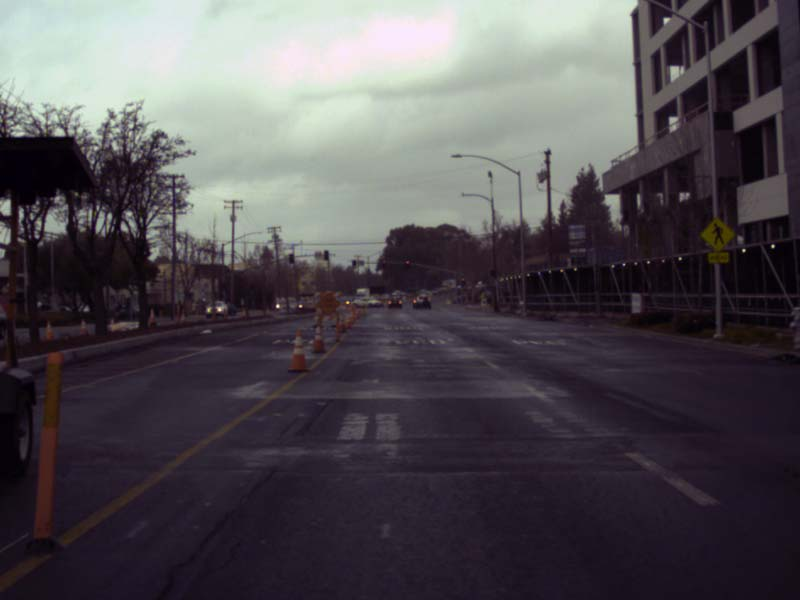Green: (353, 260, 355, 268)
Red: (405, 260, 408, 269), (382, 259, 385, 267), (461, 277, 464, 285)
